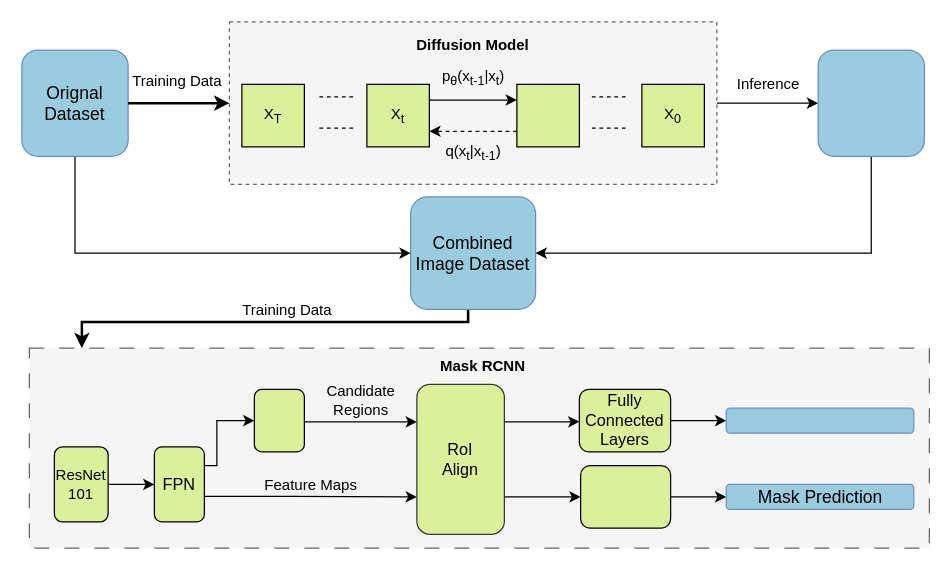
The diagram is 951 pixels wide and 570 high, and some of its shapes have lost their labels. Each missing label, with the box of its shape:
Class Prediction: (725, 407, 914, 433)
Convolution Layers: (579, 464, 671, 528)
RPN: (253, 388, 304, 452)
Synthetic Dataset: (817, 49, 924, 156)
X t-1: (516, 83, 579, 147)
